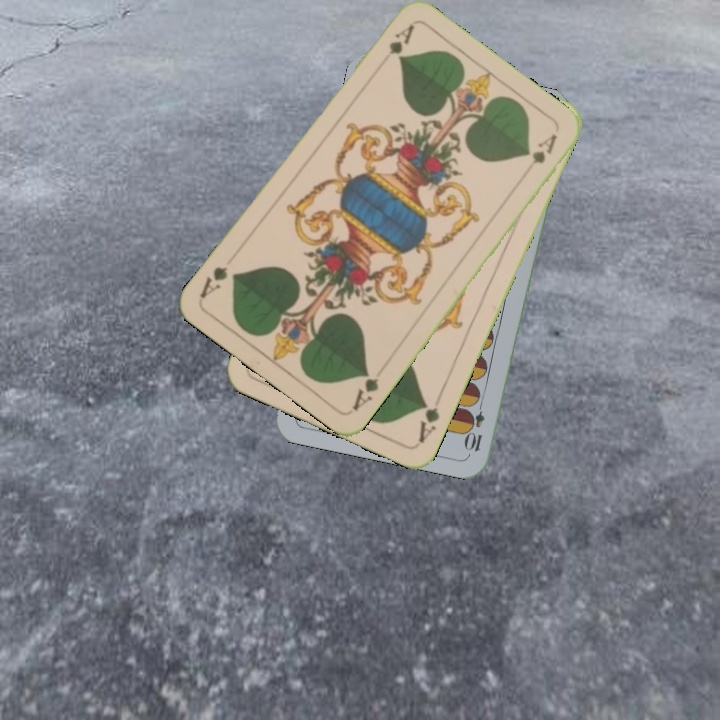E10: (463, 395, 488, 454)
GA: (374, 20, 417, 71), (347, 367, 382, 414), (413, 395, 442, 446)
